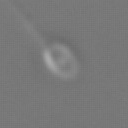normal: (5, 1, 48, 47)
